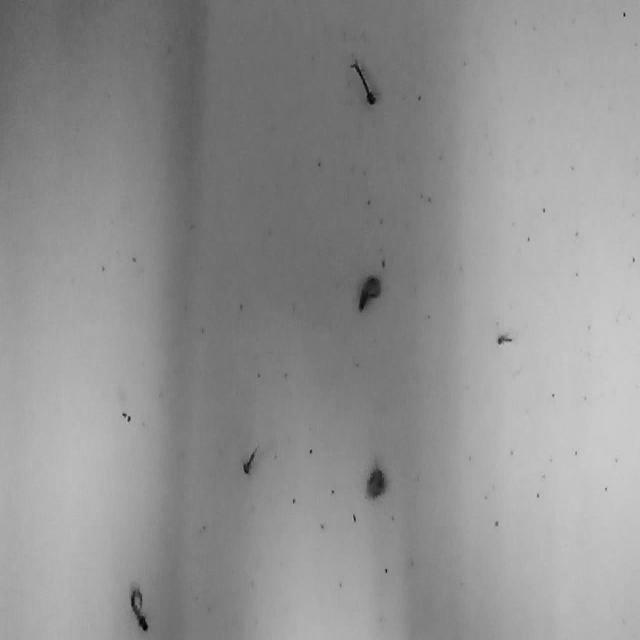larvas: (350, 59, 378, 104), (358, 272, 380, 310), (130, 586, 148, 630), (366, 464, 386, 502), (241, 440, 259, 476), (497, 332, 515, 345)
